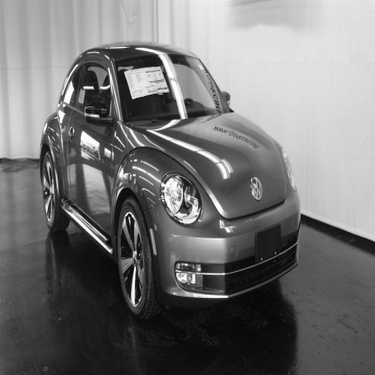car: (29, 33, 305, 323)
